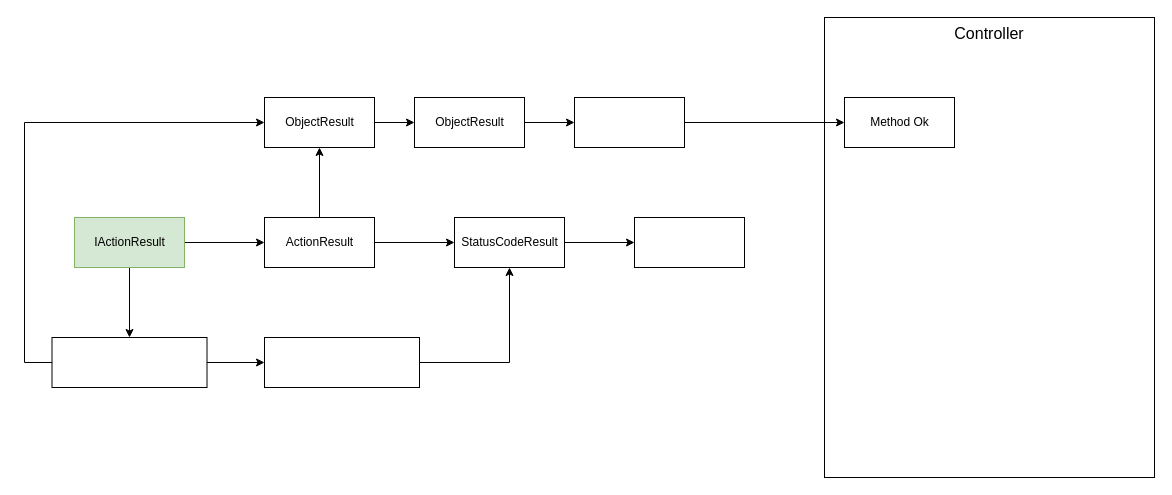
Image size: 1172x495. Some labels were removed from this diagram. The centre of each missing label's shape, as x and y in pixels:
"IClientErrorActionResult" belongs at (x=342, y=362).
"IStatusCodeActionResult" belongs at (x=129, y=362).
"NotFoundResult" belongs at (x=689, y=242).
"OkObjectResult" belongs at (x=629, y=122).
